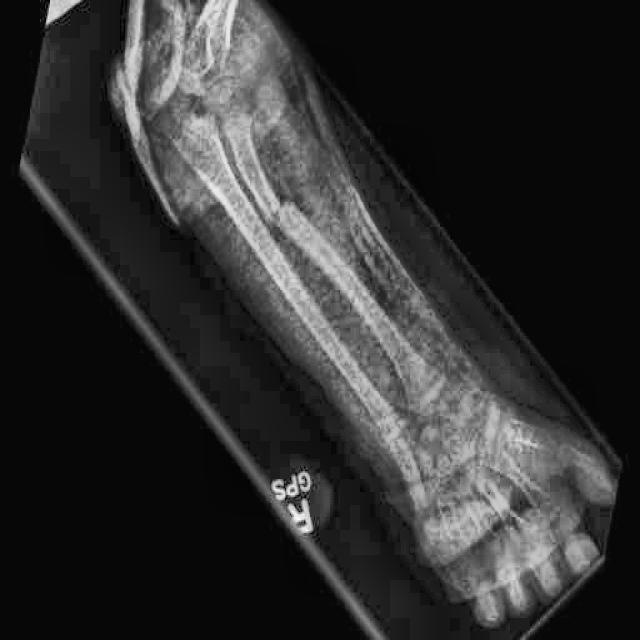forearm fracture: (246, 165, 325, 270)
